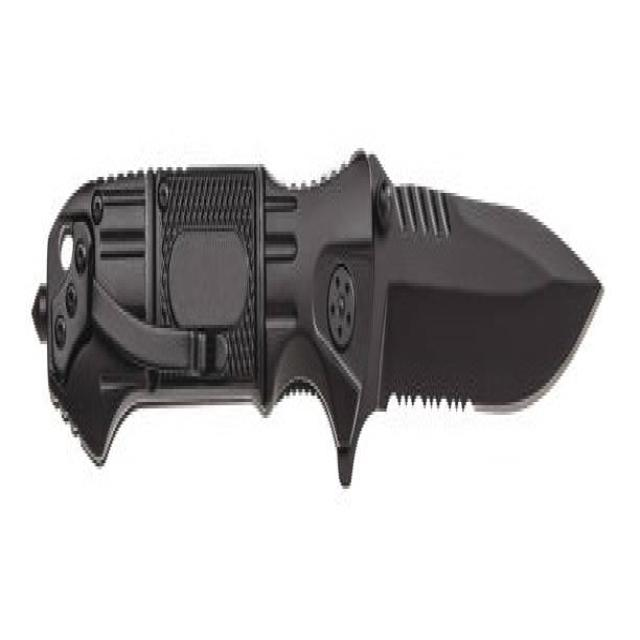knife: (30, 114, 609, 516)
